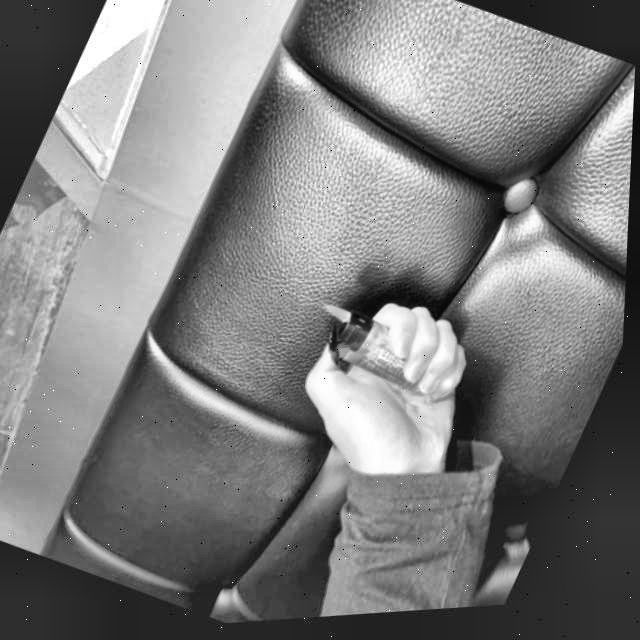Fire: (322, 302, 356, 330)
